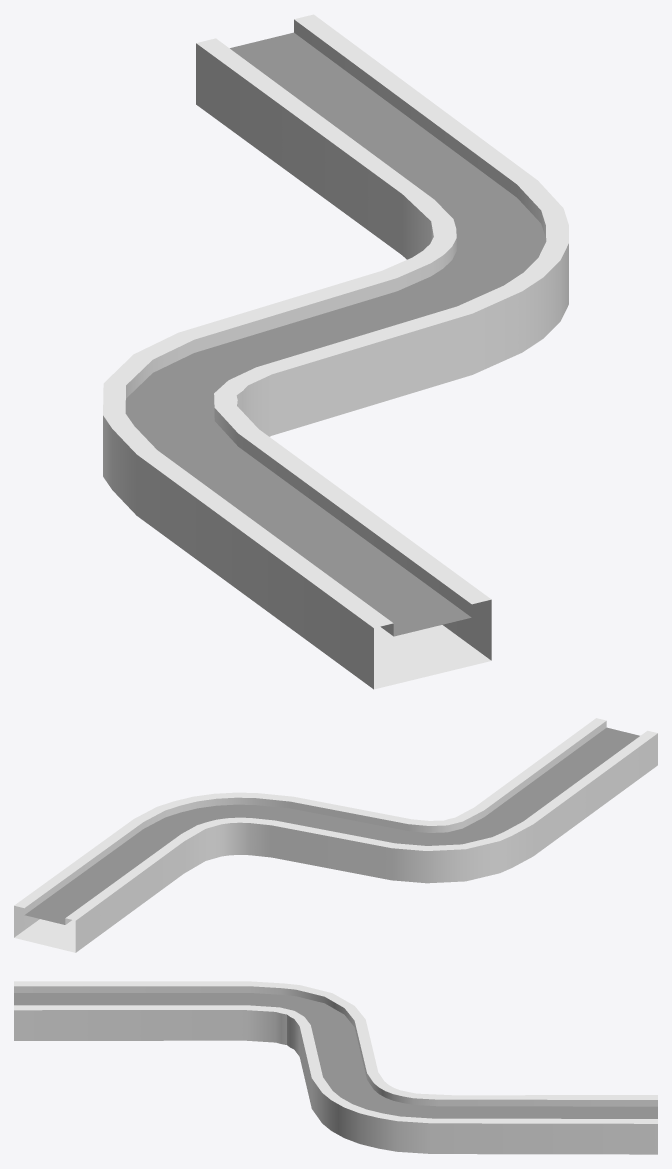
File: rd_right.fbx
3 renders of one model, top to bottom at view 1: azimuth 30°, elevation 25°; view 2: azimuth 150°, elevation 25°; view 3: azimuth 270°, elevation 25°, orthographic. The views are drawn at different scales.
Parts seen in each view (by area): view 1: r; view 2: r; view 3: r.
Part boxes in pixels (left/top/right/bottom): r: left=103, top=14, right=568, bottom=689; r: left=14, top=718, right=657, bottom=952; r: left=14, top=981, right=657, bottom=1154.
Bounding box in the file's own units: 1209 × 121 × 2311.
